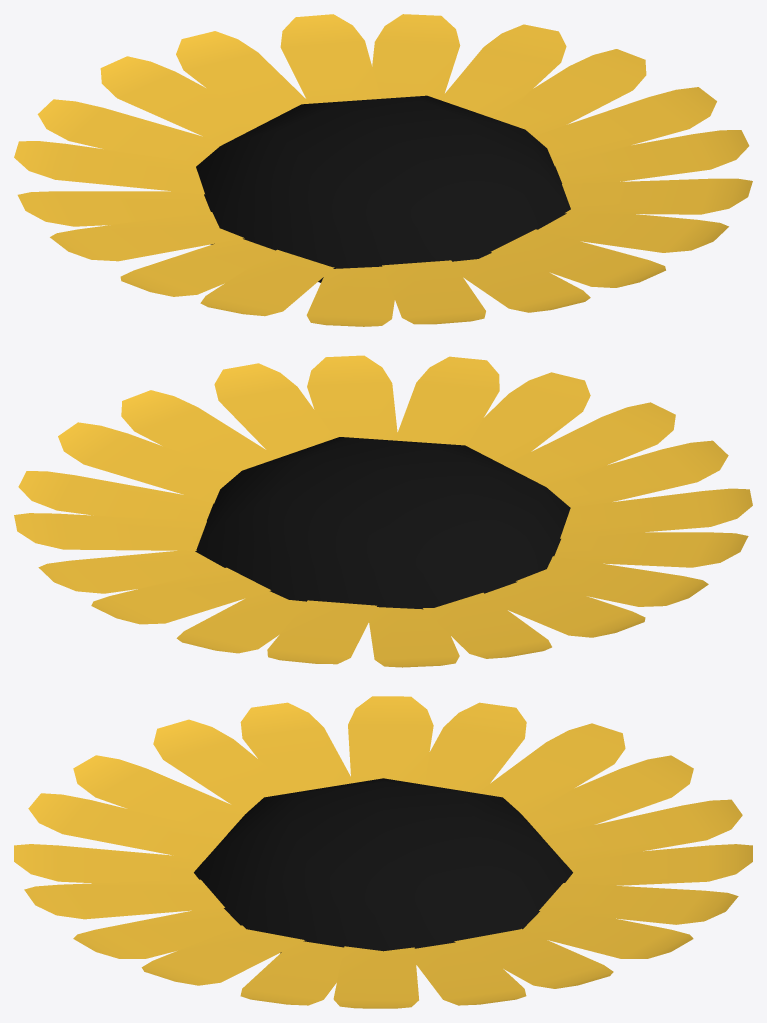
Rendered from Flower_10.fbx.
The picture shows the model from 3 angles, top to bottom: view 1: azimuth 30°, elevation 25°; view 2: azimuth 150°, elevation 25°; view 3: azimuth 270°, elevation 25°; orthographic projection.
Parts seen in each view (by area): view 1: Flower_10; view 2: Flower_10; view 3: Flower_10.
Part boxes in pixels (box(x1,y1,x2,y2)): Flower_10: box(14, 14, 752, 326); Flower_10: box(14, 355, 752, 667); Flower_10: box(14, 696, 752, 1008).
Bounding box in the file's own units: 59.04 × 6.28 × 58.98.
